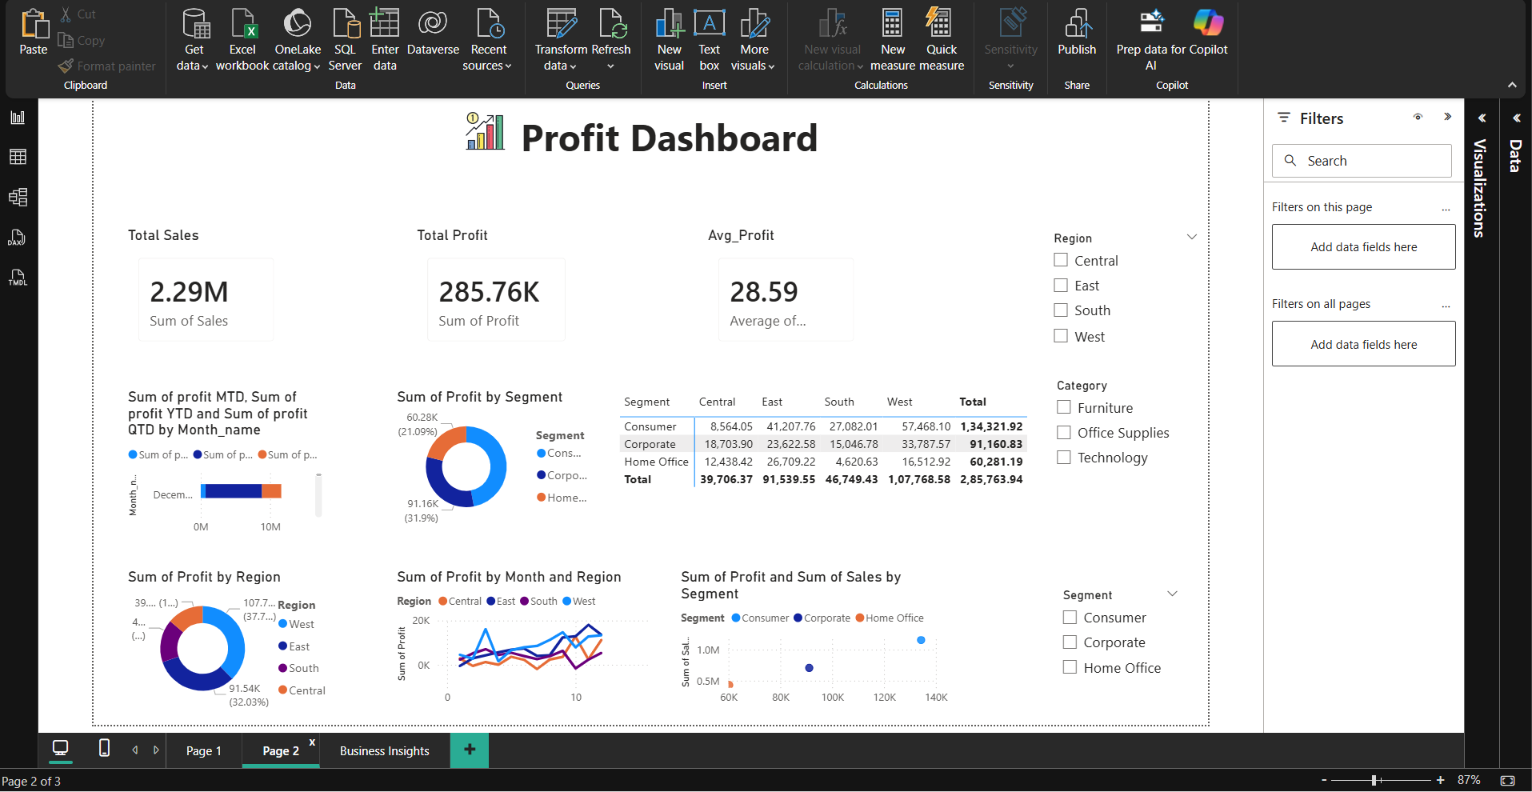

Layout of this report page (visuals, bound fields, positions):
{"tool":"powerbi","page":{"name":"Page 2","canvas":[1280,720],"ordinal":1},"visuals":[{"type":"cardVisual","title":"Total Sales","fields":{"Data":["Sum(Sheet1.Sales)"]},"box":[34.3,146.8,190.7,149.6],"z":0},{"type":"cardVisual","title":"Total Profit","fields":{"Data":["Sum(Sheet1.Profit)"]},"box":[366.4,146.8,193.5,149.6],"z":1},{"type":"textbox","box":[406.2,9.6,510.5,74.1],"z":2},{"type":"cardVisual","title":"Avg_Profit","fields":{"Data":["Avg(Sheet1.Avg_profit)"]},"box":[701.2,146.8,190.7,149.6],"z":3},{"type":"slicer","fields":{"Values":["Sheet1.Region"]},"box":[1089.5,146.8,190.7,149.6],"z":4},{"type":"slicer","fields":{"Values":["Sheet1.Category"]},"box":[1093.7,315.6,174.3,150.9],"z":5},{"type":"slicer","fields":{"Values":["Sheet1.Segment"]},"box":[1100.5,557.1,157.8,140],"z":6},{"type":"donutChart","fields":{"Category":["Sheet1.Region"],"Y":["Sum(Sheet1.Profit)"]},"box":[34.3,539.3,247,167.4],"z":7},{"type":"donutChart","fields":{"Category":["Sheet1.Segment"],"Y":["Sum(Sheet1.Profit)"]},"box":[343.1,332.1,238.8,163.3],"z":8},{"type":"barChart","fields":{"Category":["Date_Table.Month_name"],"Y":["Sum(Date_Table.profit MTD)","Sum(Date_Table.profit YTD)","Sum(Date_Table.profit QTD)"]},"box":[34.3,332.1,233.3,178.4],"z":9},{"type":"lineChart","fields":{"Category":["Date_Table.Month"],"Y":["Sum(Sheet1.Profit)"],"Series":["Sheet1.Region"]},"box":[343.1,539.3,299.1,167.4],"z":10},{"type":"scatterChart","fields":{"X":["Sum(Sheet1.Profit)"],"Y":["Sum(Sheet1.Sales)"],"Series":["Sheet1.Segment"]},"box":[669.6,539.3,317,167.4],"z":11},{"type":"pivotTable","fields":{"Rows":["Sheet1.Segment"],"Columns":["Sheet1.Region"],"Values":["Sum(Sheet1.Profit)"]},"box":[599.7,332.1,489.9,149.6],"z":12},{"type":"image","box":[418.5,9.6,64.5,59],"z":13}]}

Visuals, with their boxes on the page's 1280x720 design canvas (x1, y1, x2, y2). These are canvas units, not pixel positions in the 1532x792 screenshot, which may show the page scaled, cropped or inside an application window:
"Total Sales" cardVisual: [34, 147, 225, 296]
"Total Profit" cardVisual: [366, 147, 560, 296]
textbox: [406, 10, 917, 84]
"Avg_Profit" cardVisual: [701, 147, 892, 296]
slicer - Sheet1.Region: [1090, 147, 1280, 296]
slicer - Sheet1.Category: [1094, 316, 1268, 466]
slicer - Sheet1.Segment: [1100, 557, 1258, 697]
donutChart - Sheet1.Region x Sum(Sheet1.Profit): [34, 539, 281, 707]
donutChart - Sheet1.Segment x Sum(Sheet1.Profit): [343, 332, 582, 495]
barChart - Date_Table.Month_name x Sum(Date_Table.profit MTD): [34, 332, 268, 510]
lineChart - Date_Table.Month x Sum(Sheet1.Profit): [343, 539, 642, 707]
scatterChart - Sum(Sheet1.Profit) x Sum(Sheet1.Sales): [670, 539, 987, 707]
pivotTable - Sheet1.Segment x Sheet1.Region: [600, 332, 1090, 482]
image: [418, 10, 483, 69]
